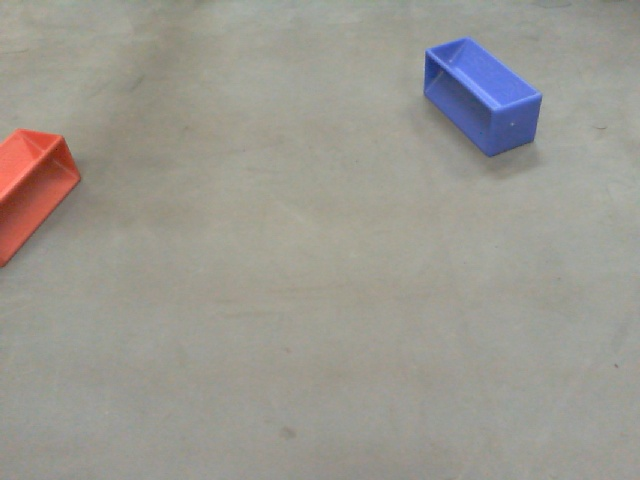BlueSample: (423, 35, 548, 158)
RedSample: (1, 124, 84, 266)
